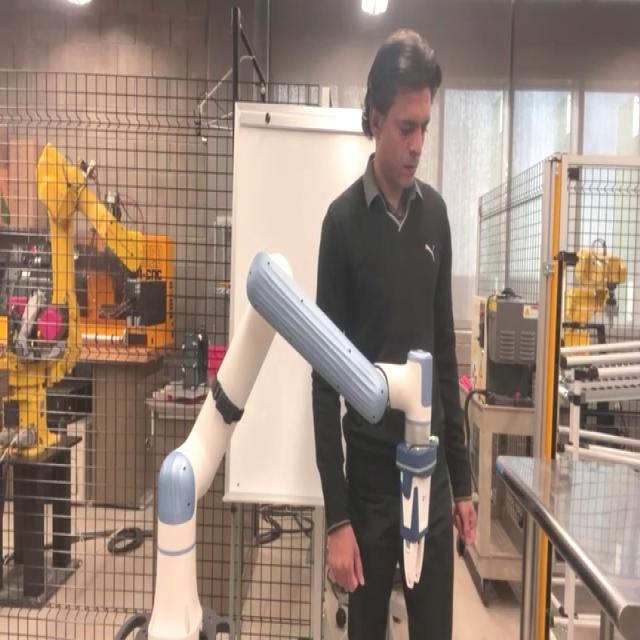robot: (114, 248, 438, 637)
